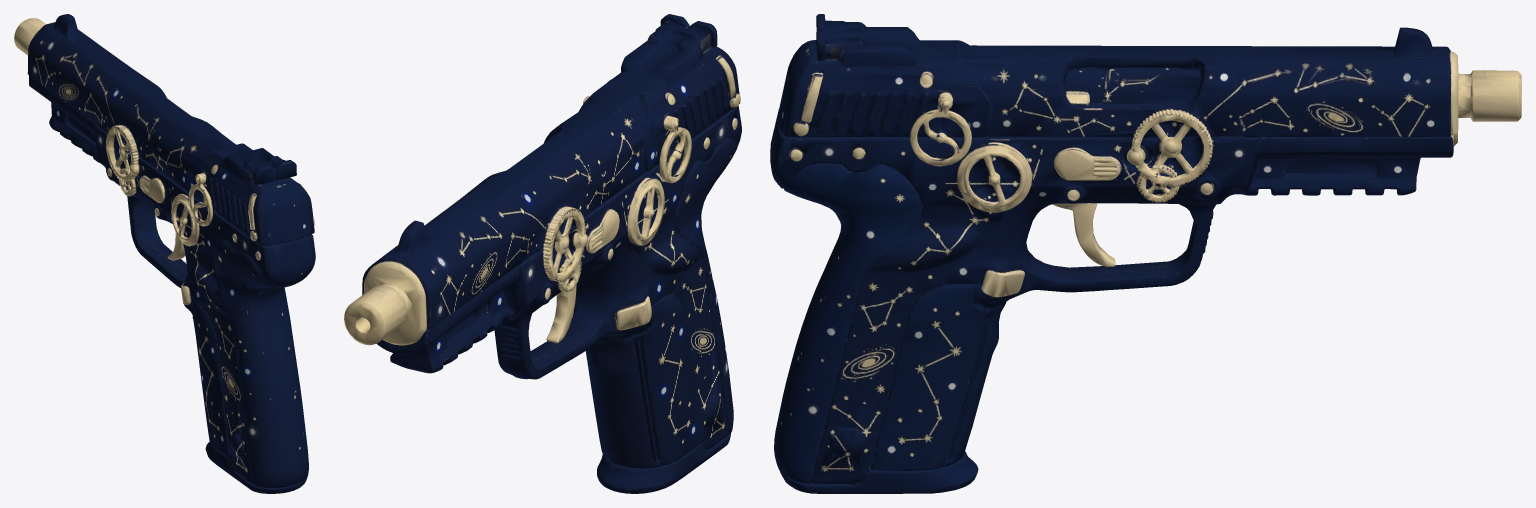
File: fiveseven_yildiz.glb
3 views of the same model, side by side, from view 1: azimuth 30°, elevation 25°; view 2: azimuth 150°, elevation 25°; view 3: azimuth 270°, elevation 25° (orthographic). The views are drawn at different scales.
Visible parts, largest first — view 1: govde; view 2: govde; view 3: govde.
Boxes of the visible parts, <box> form: govde: <box>14,14,315,493</box>; govde: <box>344,14,741,493</box>; govde: <box>770,14,1521,493</box>.
Bounding box in the file's own units: 0.0323 × 0.1378 × 0.208.
1 material, 1 textured.
